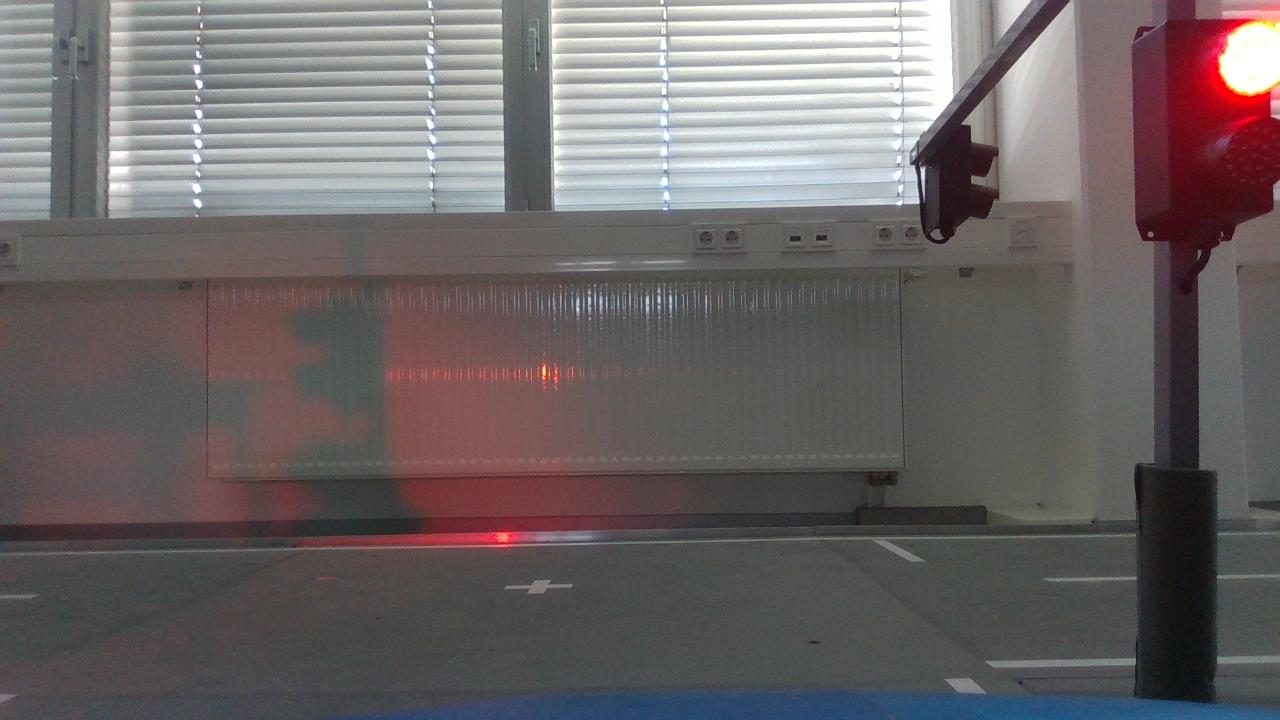traffic_light_red: (1117, 16, 1280, 248)
